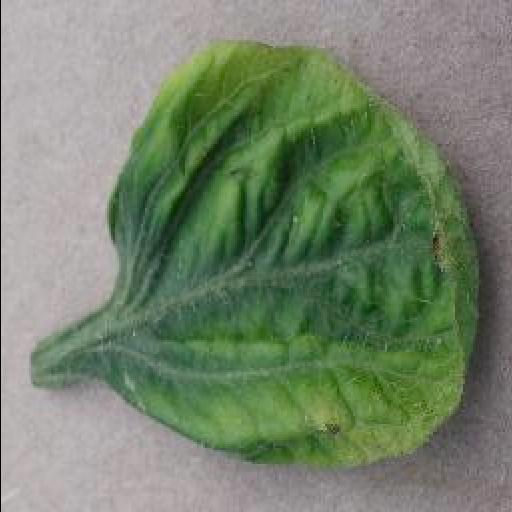disease_tomato: (109, 40, 487, 470)
